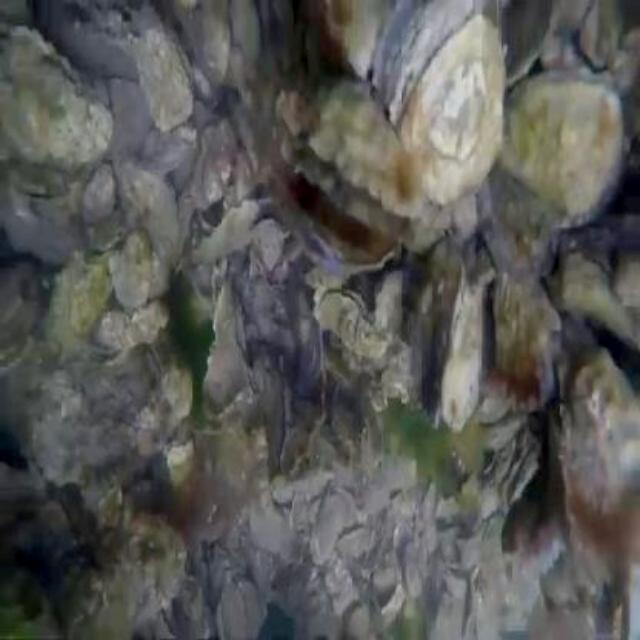Oyster-Closed: (547, 339, 640, 584), (503, 68, 627, 226), (66, 512, 186, 640), (122, 10, 202, 128), (324, 0, 388, 84)
Oyster-Open: (280, 77, 448, 247), (372, 0, 508, 208), (30, 342, 168, 502), (0, 18, 110, 162), (410, 252, 486, 432), (274, 166, 398, 276), (481, 265, 559, 411), (555, 243, 640, 346), (314, 283, 388, 365), (558, 0, 620, 80), (188, 115, 238, 213), (490, 428, 542, 502)
